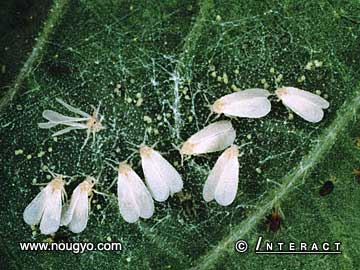whitefly: (127, 127, 184, 202), (103, 155, 155, 221), (203, 140, 251, 206), (23, 169, 70, 236), (172, 120, 238, 164), (58, 170, 102, 235), (268, 79, 329, 124), (205, 88, 272, 127)
